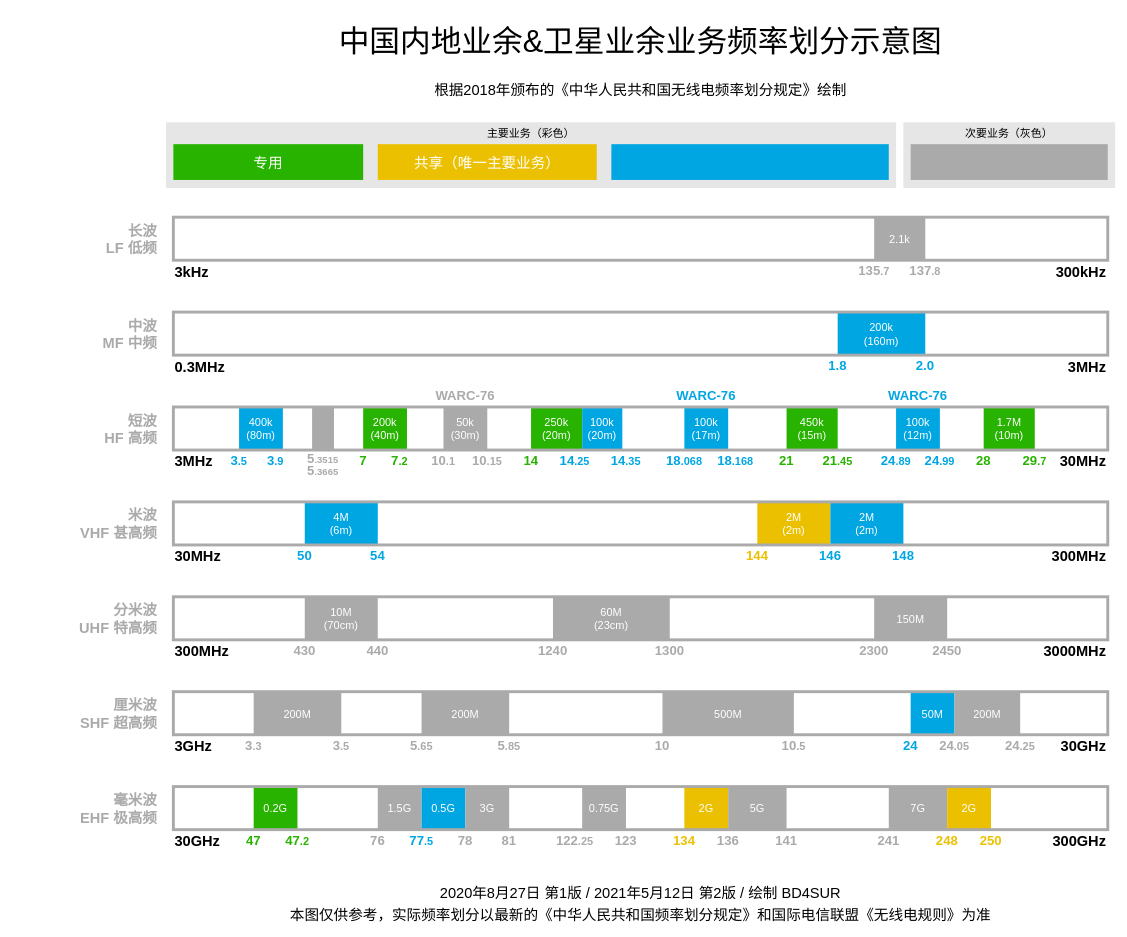
The diagram is 1127 pixels wide and 937 high, and some of its shapes have lost their labels. The centre of each missing label's shape, as x and y in pixels:
"15k" goes at pixel 323 428.
"共享（与其他业务同为主要业务）" goes at pixel 749 162.
"共享（作为次要业务）" goes at pixel 1008 162.
